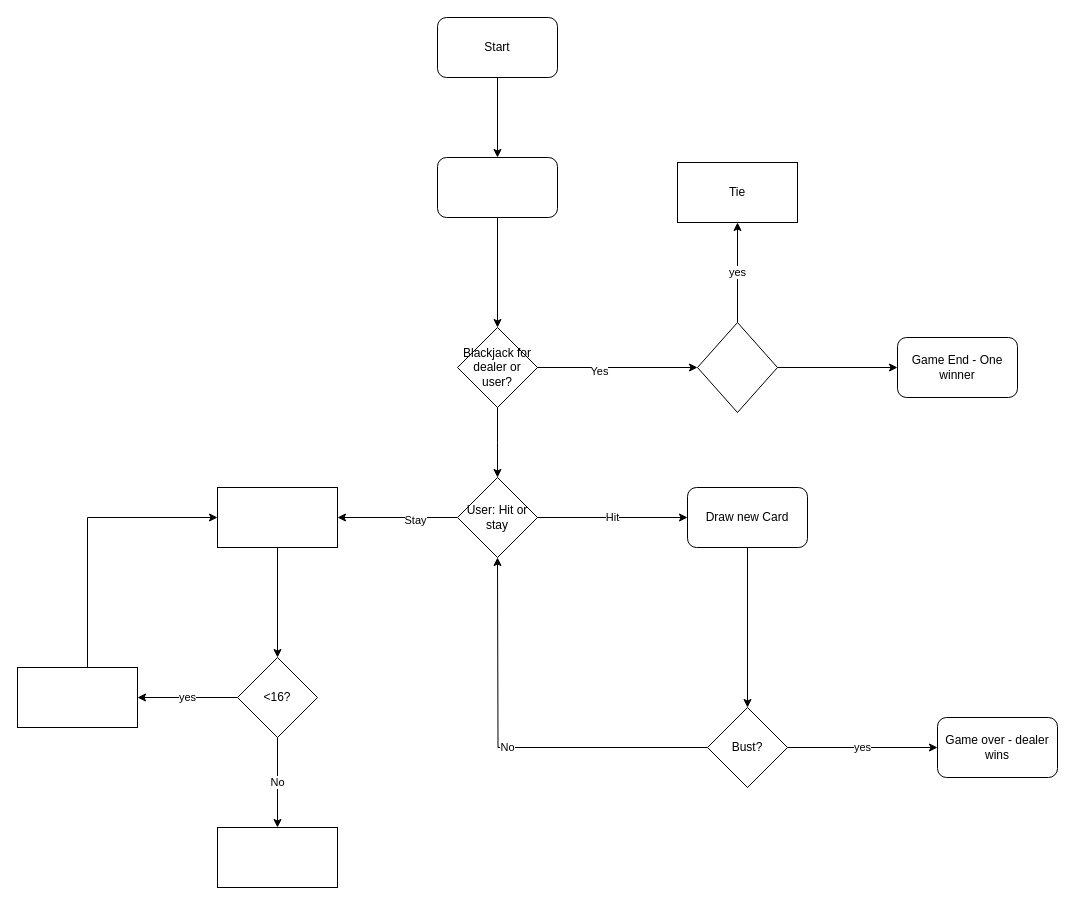
This 1075x905 diagram has some shape labels left out. Each missing label, with the box of its shape:
Both?: (696, 322, 778, 412)
Calculate game decisions: (216, 826, 338, 888)
Deal two cards: (436, 156, 558, 218)
Dealer: Show card: (216, 486, 338, 548)
Draw cards: (16, 666, 138, 728)
